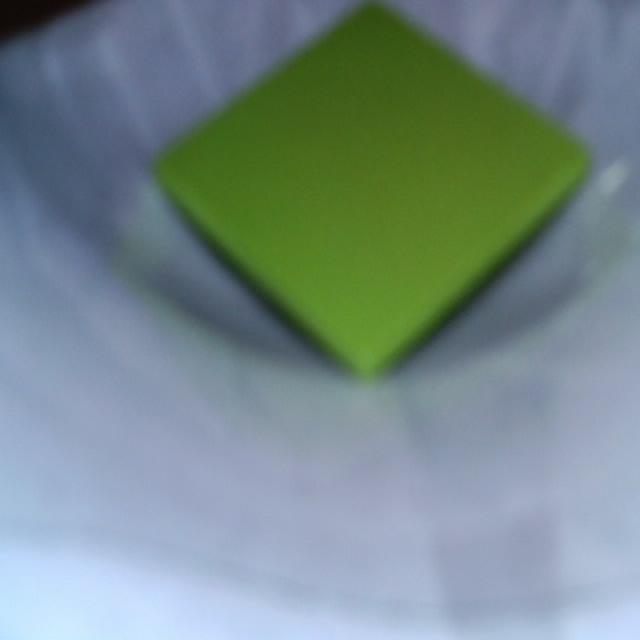square: (157, 7, 587, 375)
